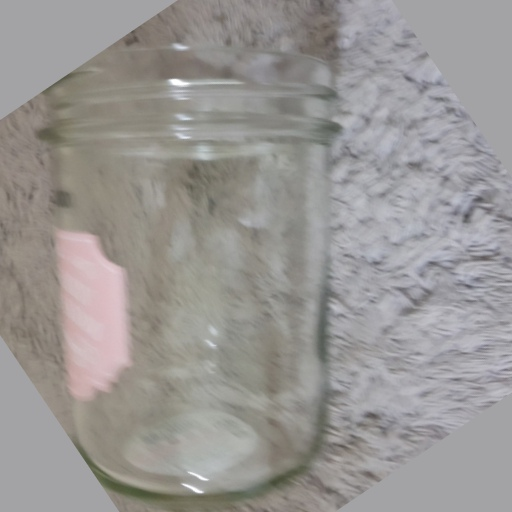Glass_5: (46, 46, 349, 498)
